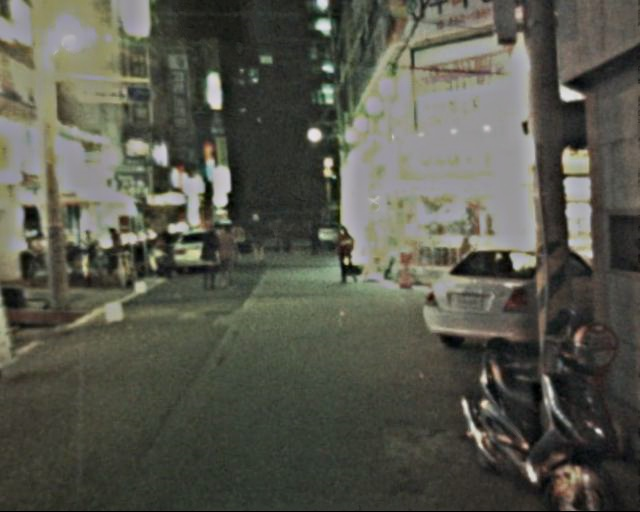person: (194, 231, 222, 291), (331, 226, 358, 285), (215, 223, 240, 285), (242, 214, 265, 260), (267, 217, 289, 258), (302, 222, 317, 259)
